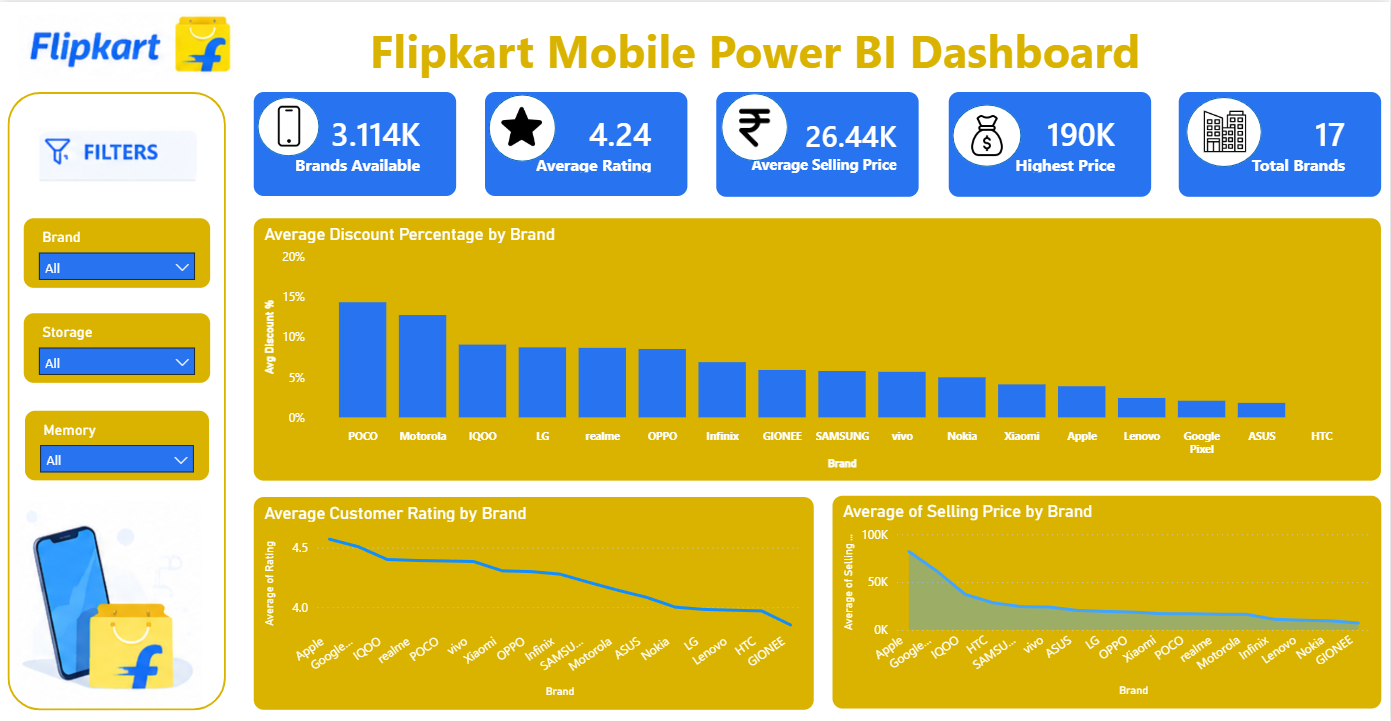

This screenshot's page, from the dashboard's own definition file:
{"tool":"powerbi","page":{"name":"Page 1","canvas":[1390,720],"ordinal":0},"visuals":[{"type":"textbox","title":"Flipkart Mobile Power BI Dashboard","box":[354.6,17.2,800,111.7],"z":0},{"type":"image","box":[12.9,497.1,188.6,210],"z":1000},{"type":"shape","box":[7.4,89.6,218.4,618.4],"z":2000},{"type":"image","box":[34.4,121.5,166.9,63.8],"z":3000},{"type":"cardVisual","fields":{"Data":["CountNonNull(Flipkart_Mobiles.Model)"]},"box":[254.2,90,202.5,104.2],"z":4000},{"type":"cardVisual","fields":{"Data":["Avg(Flipkart_Mobiles.Rating)"]},"box":[485,90,202.5,104.2],"z":5000},{"type":"cardVisual","fields":{"Data":["Avg(Flipkart_Mobiles.Selling Price)"]},"box":[716.7,90,202.2,104.4],"z":6000},{"type":"cardVisual","fields":{"Data":["Max(Flipkart_Mobiles.Original Price)"]},"box":[948.3,90,202.8,104.4],"z":7000},{"type":"cardVisual","fields":{"Data":["Count(Flipkart_Mobiles.Brand)"]},"box":[1178.9,90,202.8,104.4],"z":8000},{"type":"clusteredColumnChart","title":"Average Discount Percentage by Brand","fields":{"Category":["Flipkart_Mobiles.Brand"],"Y":["Flipkart_Mobiles.Avg Discount %"]},"box":[254.2,215.8,1127.5,262.5],"z":9000},{"type":"lineChart","title":"Average Customer Rating by Brand","fields":{"Category":["Flipkart_Mobiles.Brand"],"Y":["Avg(Flipkart_Mobiles.Rating)"]},"box":[253.8,495,560,212.5],"z":10000},{"type":"stackedAreaChart","fields":{"Category":["Flipkart_Mobiles.Brand"],"Y":["Avg(Flipkart_Mobiles.Selling Price)"]},"box":[832.5,493.8,548.8,212.5],"z":11000},{"type":"slicer","fields":{"Values":["Flipkart_Mobiles.Brand"]},"box":[23.3,216,186.5,69.9],"z":12000},{"type":"slicer","fields":{"Values":["Flipkart_Mobiles.Storage"]},"box":[23.3,311.7,186.5,69.9],"z":13000},{"type":"slicer","fields":{"Values":["Flipkart_Mobiles.Memory"]},"box":[24.5,408.6,184.1,69.9],"z":14000},{"type":"image","box":[19,7,215,74],"z":15000},{"type":"textbox","box":[18,750,200,150],"z":16000},{"type":"shape","box":[258.1,95.4,61.9,59.2],"z":17000},{"type":"shape","box":[1186.7,94.4,75.6,70],"z":18000},{"type":"shape","box":[952.2,102.2,68.9,62.2],"z":19000},{"type":"shape","box":[721.1,91.1,66.7,67.8],"z":20000},{"type":"shape","box":[489,92.9,67.1,67.1],"z":21000},{"type":"image","box":[266.5,103.8,45.4,40.8],"z":22000},{"type":"image","box":[501.9,102.2,41.1,43.7],"z":23000},{"type":"image","box":[964.4,112.2,44.4,42.2],"z":24000},{"type":"image","box":[725.6,97.8,56.7,56.7],"z":25000},{"type":"image","box":[1203.9,106.1,42.2,46.5],"z":26000}]}

Visuals, with their boxes in screenshot pixels (x1, y1, x2, y2), scaled from the page's 1390x720 canvas onto the 1391x721 screenshot:
"Flipkart Mobile Power BI Dashboard" textbox: [355, 17, 1155, 129]
image: [13, 498, 202, 708]
shape: [7, 90, 226, 709]
image: [34, 122, 201, 186]
cardVisual - CountNonNull(Flipkart_Mobiles.Model): [254, 90, 457, 194]
cardVisual - Avg(Flipkart_Mobiles.Rating): [485, 90, 688, 194]
cardVisual - Avg(Flipkart_Mobiles.Selling Price): [717, 90, 920, 195]
cardVisual - Max(Flipkart_Mobiles.Original Price): [949, 90, 1152, 195]
cardVisual - Count(Flipkart_Mobiles.Brand): [1180, 90, 1383, 195]
"Average Discount Percentage by Brand" clusteredColumnChart: [254, 216, 1383, 479]
"Average Customer Rating by Brand" lineChart: [254, 496, 814, 708]
stackedAreaChart - Flipkart_Mobiles.Brand x Avg(Flipkart_Mobiles.Selling Price): [833, 494, 1382, 707]
slicer - Flipkart_Mobiles.Brand: [23, 216, 210, 286]
slicer - Flipkart_Mobiles.Storage: [23, 312, 210, 382]
slicer - Flipkart_Mobiles.Memory: [25, 409, 209, 479]
image: [19, 7, 234, 81]
shape: [258, 96, 320, 155]
shape: [1188, 95, 1263, 165]
shape: [953, 102, 1022, 165]
shape: [722, 91, 788, 159]
shape: [489, 93, 557, 160]
image: [267, 104, 312, 145]
image: [502, 102, 543, 146]
image: [965, 112, 1010, 155]
image: [726, 98, 783, 155]
image: [1205, 106, 1247, 153]
